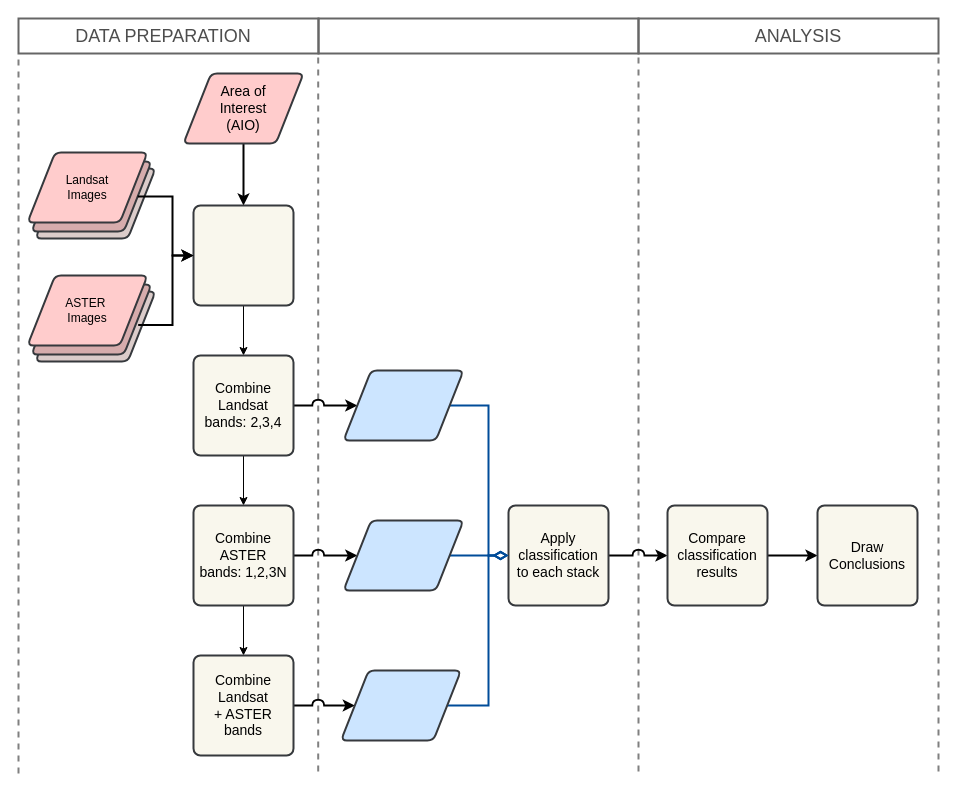
This 957x792 diagram has some shape labels left out. The shapes that lost their labels are listed below. From the top down, each one's box as (x1, y1, x2, y2) in pixels, then its label:
(317, 17, 639, 54): CLASSIFICATION
(192, 204, 294, 306): Clip bands to AOI extent
(342, 369, 464, 441): Landsat Stack
(342, 519, 464, 591): ASTER Stack
(340, 669, 462, 741): Landsat & ASTER Stack
